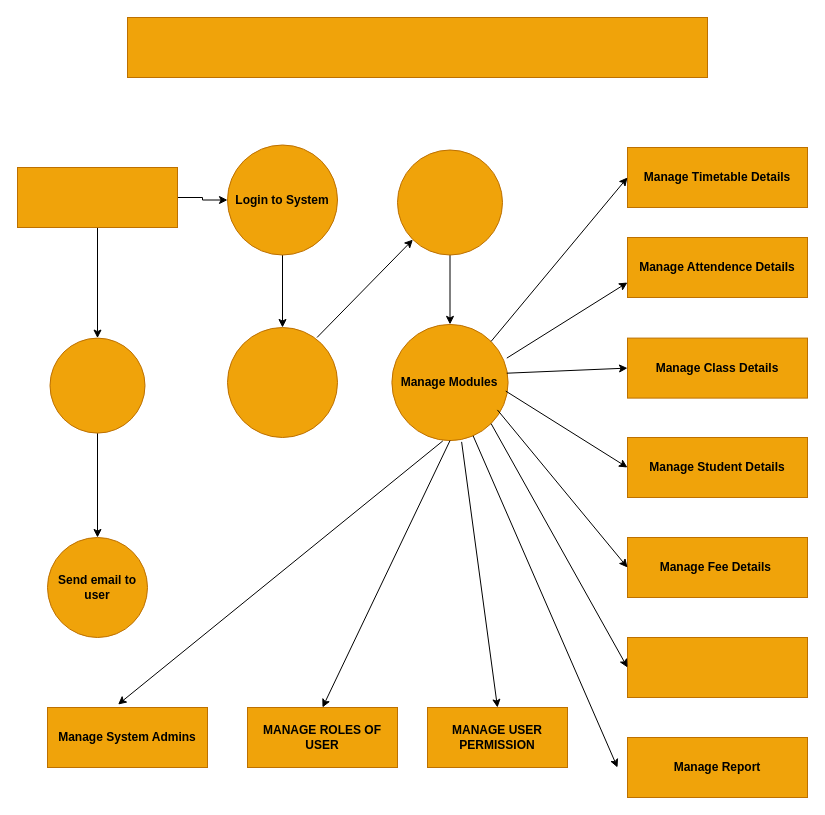
Some shapes in this 825 by 815 pixel diagram are drawn without their labels. Here are the shapes that lost their labels. From the top down, the centre of each, then its label:
At point (417, 47): "STUDENT INFORMATION SYSTEM".
At point (97, 197): "Admin".
At point (449, 202): "Check Roles of Access".
At point (97, 385): "Forgot Password".
At point (282, 382): "Check Credentials".
At point (717, 667): "Manage Teacher Profile".
